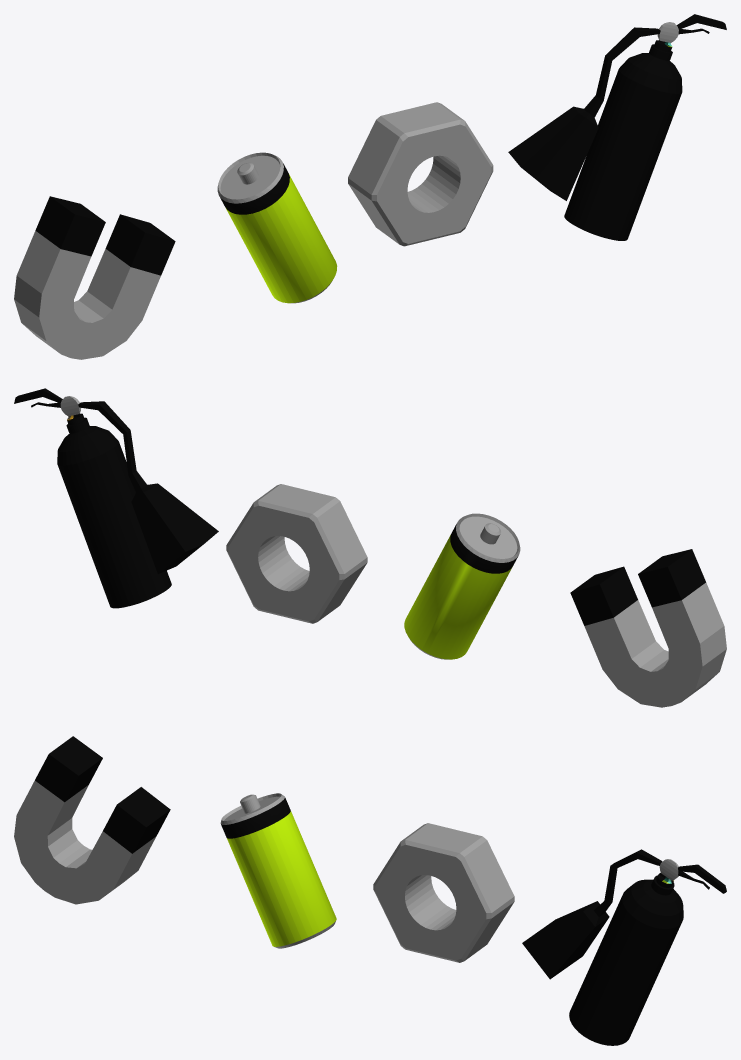
The model's file is itens.fbx.
The picture shows the model from 3 angles, top to bottom: view 1: azimuth 30°, elevation 25°; view 2: azimuth 150°, elevation 25°; view 3: azimuth 330°, elevation 25°; orthographic projection. The views are drawn at different scales.
Parts seen in each view (by area): view 1: Extintor, Ima, Porca, Pilha; view 2: Extintor, Ima, Porca, Pilha; view 3: Extintor, Ima, Porca, Pilha.
Boxes of the visible parts, left/top/right/bottom form: Extintor: left=508, top=14, right=726, bottom=240; Ima: left=14, top=196, right=175, bottom=359; Porca: left=348, top=102, right=493, bottom=246; Pilha: left=217, top=152, right=337, bottom=303; Extintor: left=14, top=388, right=218, bottom=608; Ima: left=570, top=549, right=726, bottom=707; Porca: left=226, top=484, right=367, bottom=623; Pilha: left=404, top=513, right=520, bottom=659; Extintor: left=522, top=849, right=726, bottom=1045; Ima: left=14, top=736, right=170, bottom=904; Porca: left=373, top=823, right=514, bottom=962; Pilha: left=220, top=793, right=336, bottom=948.
Bounding box in the file's own units: 1436 × 388 × 158.
Materials: 1 (1 with a texture image).
